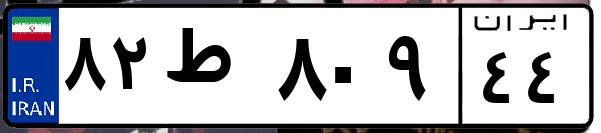0: (330, 28, 385, 110)
2: (110, 28, 158, 98)
4: (475, 38, 525, 113), (525, 38, 570, 115)
8: (270, 28, 330, 110), (57, 26, 110, 100)
9: (385, 28, 445, 110)
ط: (158, 20, 270, 120)
